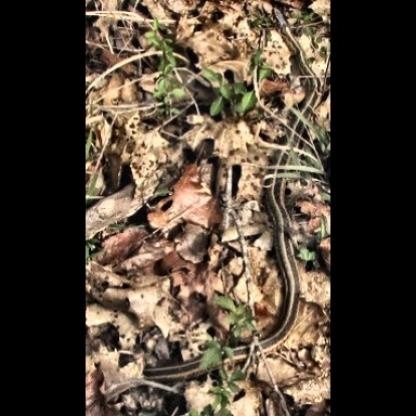Snake: (258, 0, 319, 363)
